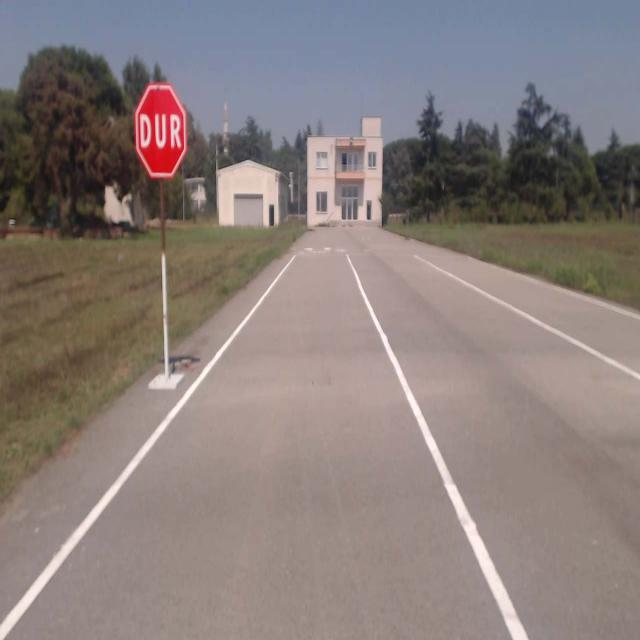dur: (134, 84, 186, 178)
